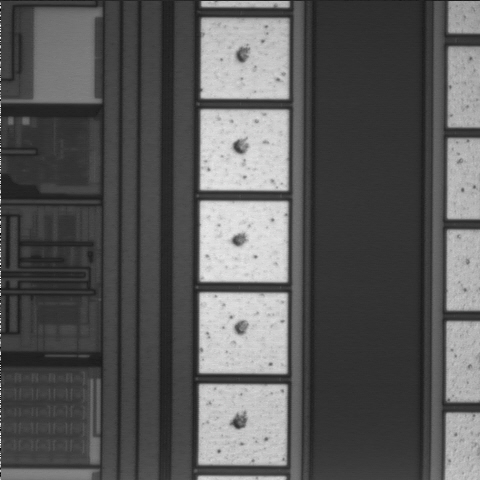pad: (200, 201, 288, 282), (200, 110, 288, 190), (199, 385, 287, 465), (201, 19, 288, 99), (200, 293, 287, 373)
